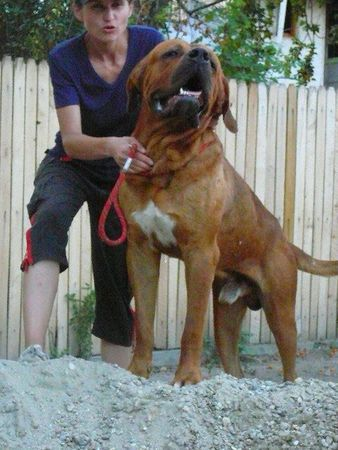human_face: (70, 1, 133, 42)
person: (19, 0, 166, 368)
tosa_inu: (116, 38, 338, 389)
